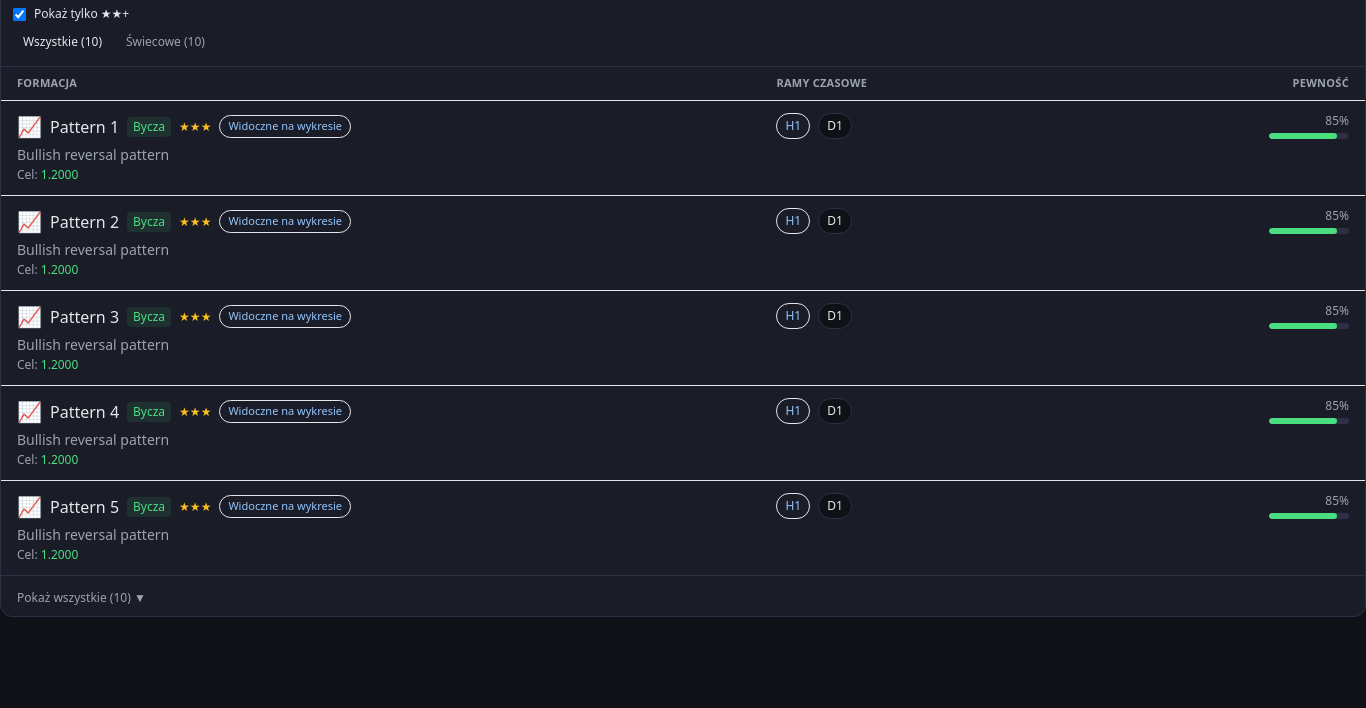
Test: PatternList › przycisk 'Pokaż wszystkie' rozwija pełną listę
Check: the text "Pattern 1" is shown, box [50,114,119,138]
Check: the text "Pattern 5" is shown, box [50,494,119,518]
Note: Click "Pokaż wszystkie" button
What coordinates should you click on to do the following:
click the button "Pokaż wszystkie (10) ▼"
I would click on:
 (81, 598)
Its box is [17,590,146,606].
(page scrolled)
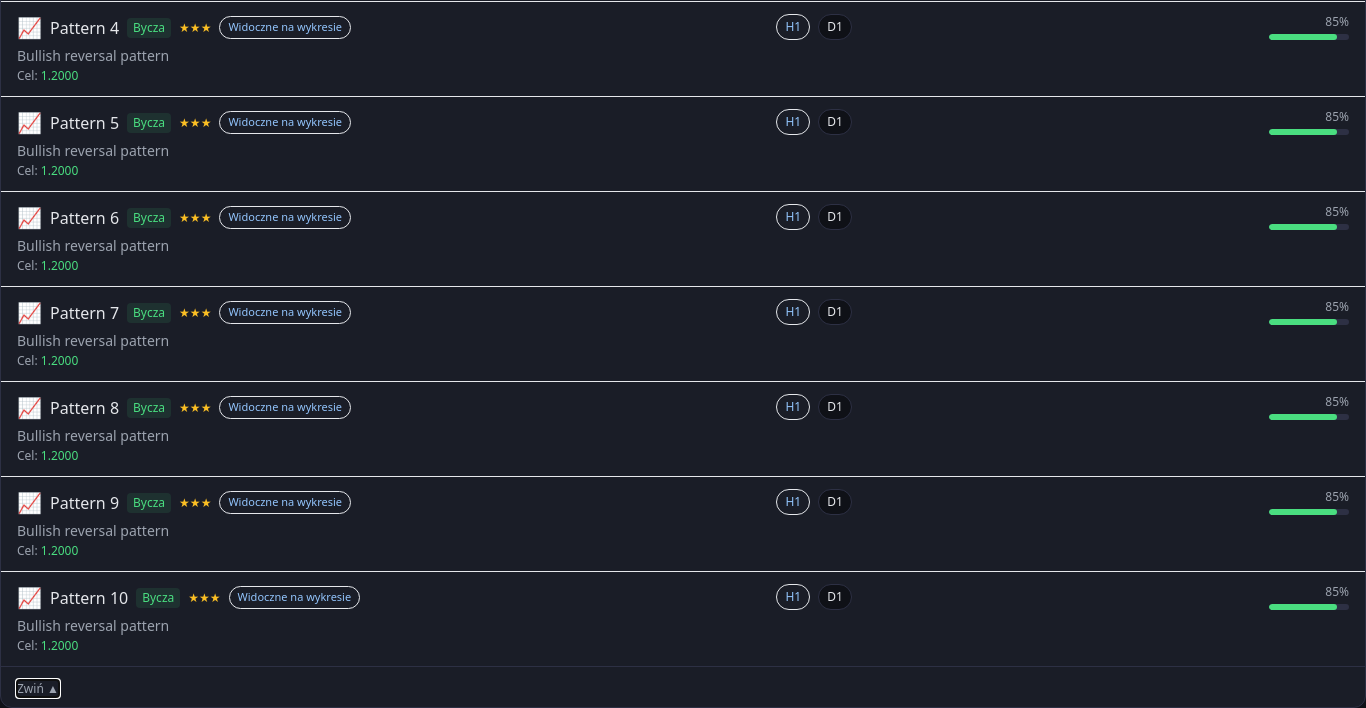
Check: the text "Pattern 10" is shown, box [50,586,128,610]
